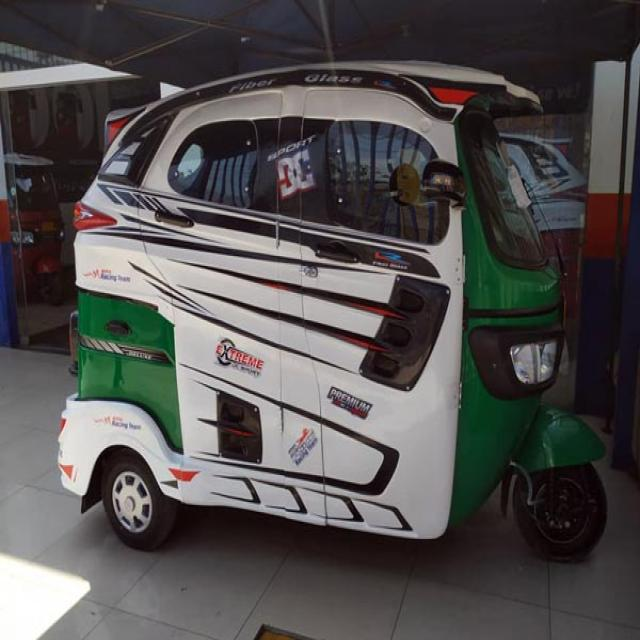autorickshaw: (55, 63, 604, 560), (4, 155, 70, 306)
